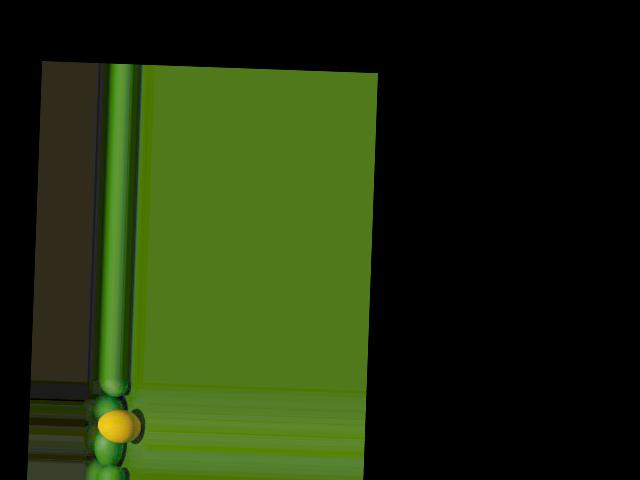egg: (97, 409, 142, 444)
